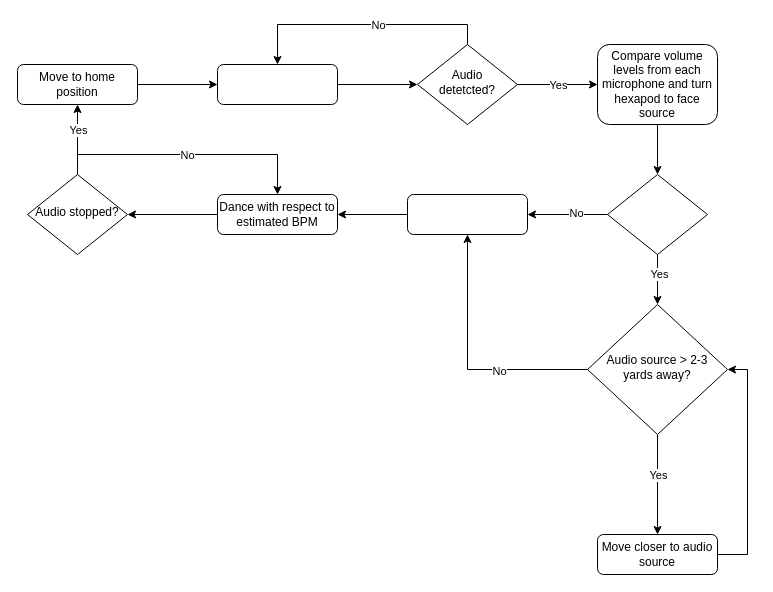
Image size: 773x592. Some labels were removed from this diagram. The shapes that lost their labels are listed below. From the top down, each one's centre as x and y in pixels, then its label:
At point (277, 84): "Listen for audio".
At point (467, 214): "Detect audio BPM".
At point (657, 214): "Audio quiet?".
